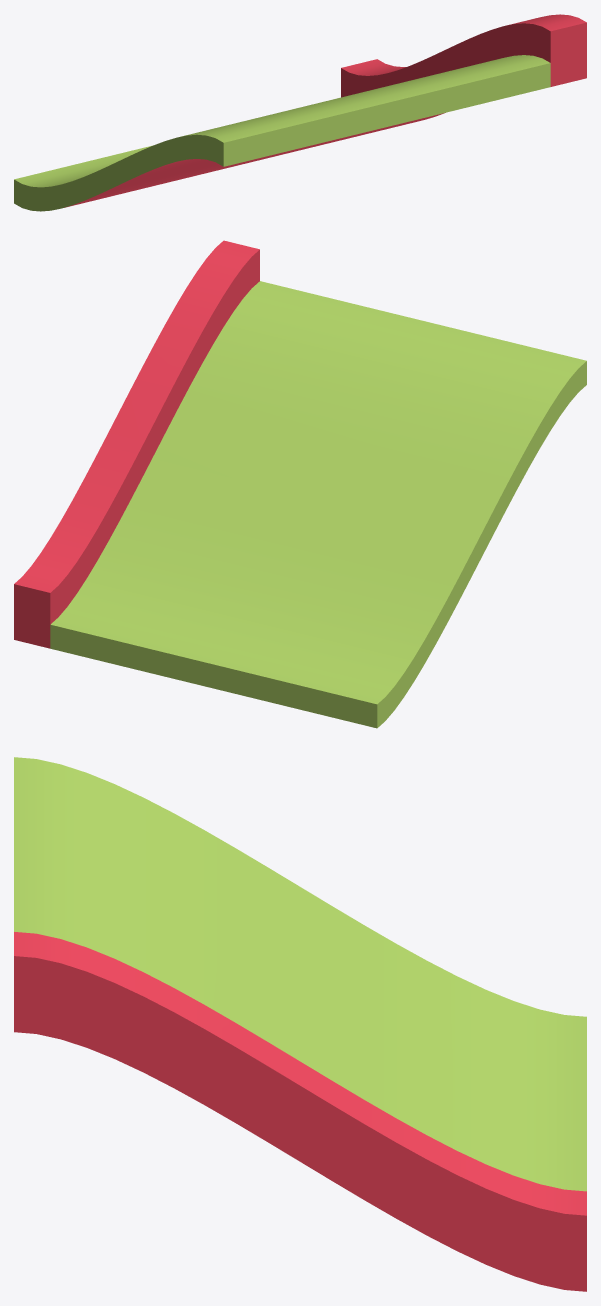
File: rampSide.fbx
3 views of the same model, one above another, from view 1: azimuth 30°, elevation 25°; view 2: azimuth 150°, elevation 25°; view 3: azimuth 270°, elevation 25° (orthographic). The views are drawn at different scales.
Visible parts, largest first — view 1: rampSide; view 2: rampSide; view 3: rampSide.
Boxes of the visible parts, bbox=[...] form: rampSide: bbox=[14, 14, 586, 211]; rampSide: bbox=[14, 240, 586, 728]; rampSide: bbox=[14, 757, 586, 1291].
Bounding box in the file's own units: 10 × 6.47 × 10.
